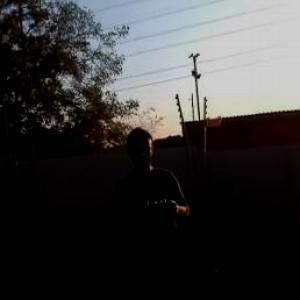follow: (108, 120, 208, 299)
